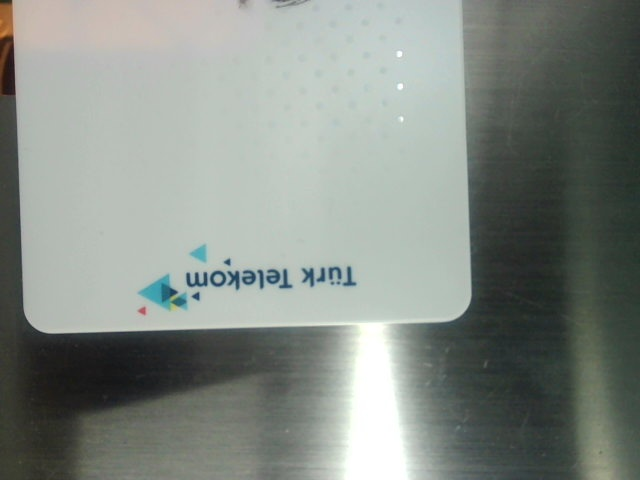AQ_TURKTelekom: (118, 241, 366, 318)
